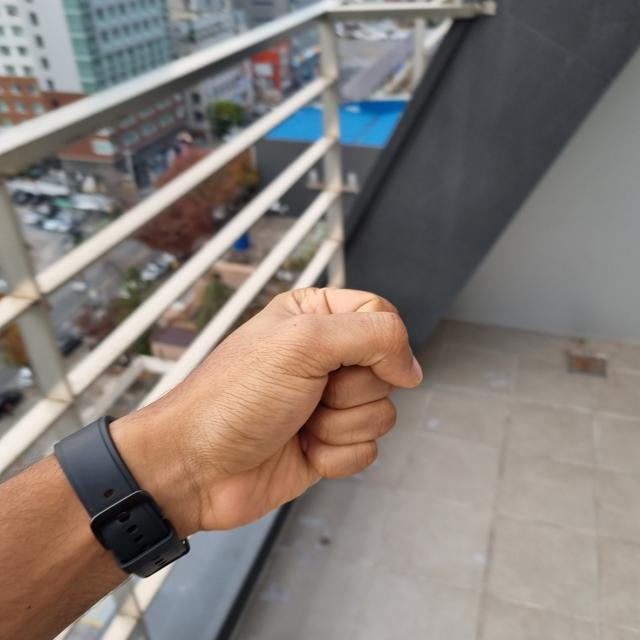Rock: (123, 287, 415, 526)
